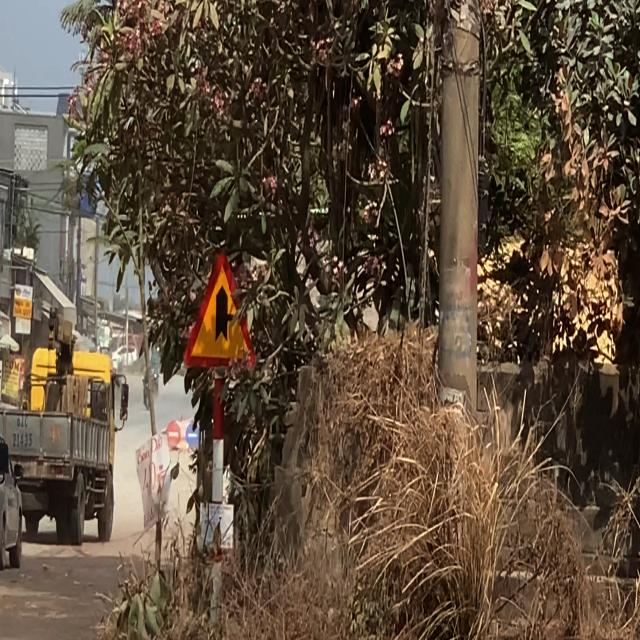Giao voi duong khong uu tien: (177, 240, 258, 380)
